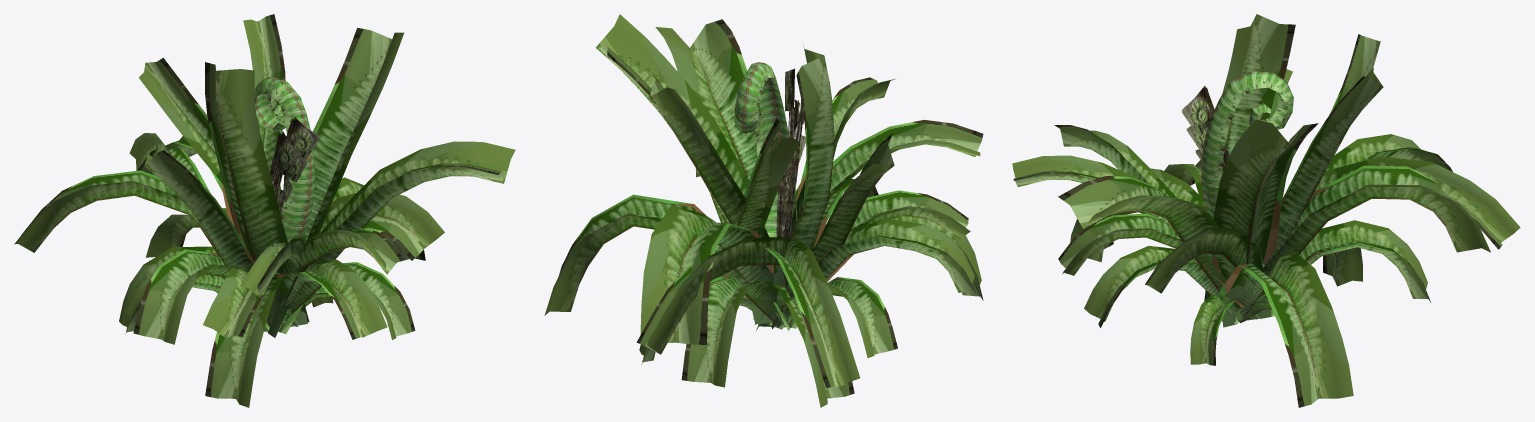
Rendered from SM_Nature_Grass_x2.fbx.
3 views of the same model, side by side, from view 1: azimuth 30°, elevation 25°; view 2: azimuth 150°, elevation 25°; view 3: azimuth 270°, elevation 25° (orthographic). The views are drawn at different scales.
Visible parts, largest first — view 1: SM_Nature_Grass_x2_LOD0; view 2: SM_Nature_Grass_x2_LOD0; view 3: SM_Nature_Grass_x2_LOD0.
Boxes of the visible parts, x1,y1,x2,y2 form: SM_Nature_Grass_x2_LOD0: (14, 14, 515, 407); SM_Nature_Grass_x2_LOD0: (544, 14, 983, 407); SM_Nature_Grass_x2_LOD0: (1012, 14, 1520, 407).
Bounding box in the file's own units: 151 × 181 × 120.
1 material, 1 textured.
